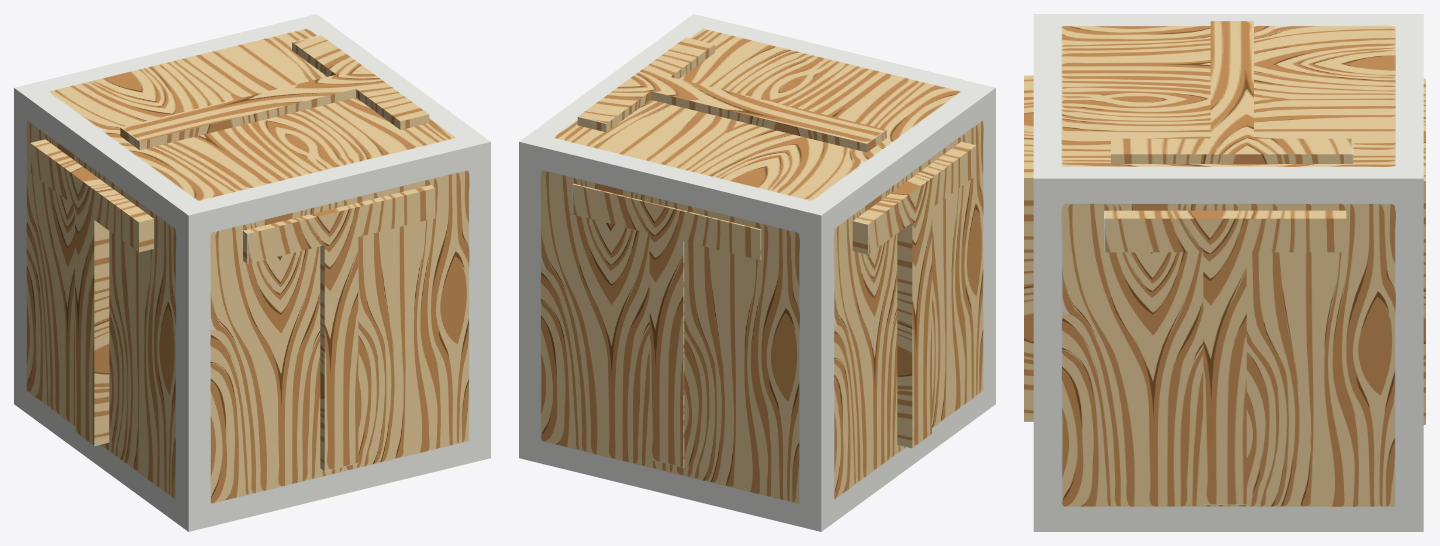
The model's file is Block T.fbx.
3 renders of one model, left to right at view 1: azimuth 30°, elevation 25°; view 2: azimuth 150°, elevation 25°; view 3: azimuth 270°, elevation 25°, orthographic. The views are drawn at different scales.
Visible parts, largest first — view 1: Box, FRONT, LEFT, TOP; view 2: Box, BACK, LEFT, TOP; view 3: Box, RIGHT, TOP, FRONT, BACK.
Part boxes in pixels (left/top/right/bottom): Box: left=14, top=14, right=490, bottom=531; FRONT: left=243, top=185, right=435, bottom=471; LEFT: left=30, top=139, right=153, bottom=445; TOP: left=120, top=35, right=429, bottom=149; Box: left=519, top=14, right=995, bottom=531; BACK: left=572, top=183, right=761, bottom=467; LEFT: left=852, top=141, right=976, bottom=448; TOP: left=577, top=37, right=886, bottom=152; Box: left=1033, top=14, right=1423, bottom=531; RIGHT: left=1104, top=210, right=1346, bottom=504; TOP: left=1111, top=21, right=1353, bottom=163; FRONT: left=1024, top=75, right=1033, bottom=421; BACK: left=1423, top=78, right=1425, bottom=424.
Bounding box in the file's own units: 1.1 × 1.04 × 1.03.
2 materials, 2 textured.
